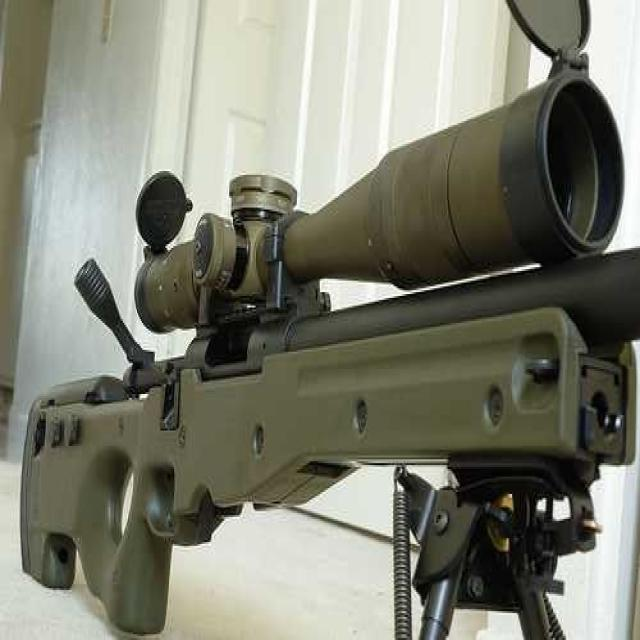heavyweapon: (24, 61, 640, 635)
